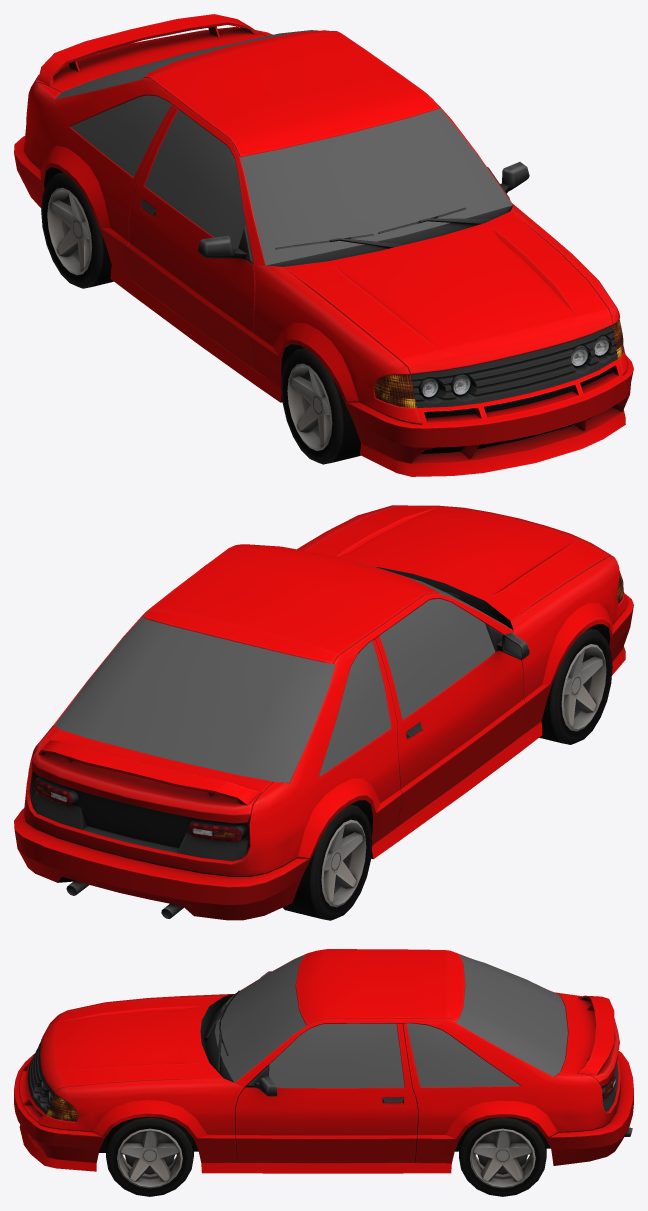
The model's file is Coupe.glb.
3 renders of one model, top to bottom at view 1: azimuth 30°, elevation 25°; view 2: azimuth 150°, elevation 25°; view 3: azimuth 270°, elevation 25°, orthographic. The views are drawn at different scales.
Visible parts, largest first — view 1: Coupe Body, Wheel_F002, Wheel_F003; view 2: Coupe Body, Wheel_F003, Wheel_F002; view 3: Coupe Body, Wheel_F, Wheel_F001.
Boxes of the visible parts, x1,y1,x2,y2 form: Coupe Body: [14, 14, 633, 476]; Wheel_F002: [281, 348, 360, 464]; Wheel_F003: [41, 172, 113, 288]; Coupe Body: [14, 505, 633, 920]; Wheel_F003: [282, 804, 372, 920]; Wheel_F002: [539, 628, 612, 744]; Coupe Body: [14, 949, 633, 1173]; Wheel_F: [106, 1116, 193, 1196]; Wheel_F001: [459, 1117, 546, 1196].
Size of the model in its own units: 2.12 by 1.44 by 4.77.
4 materials, 3 textured.
